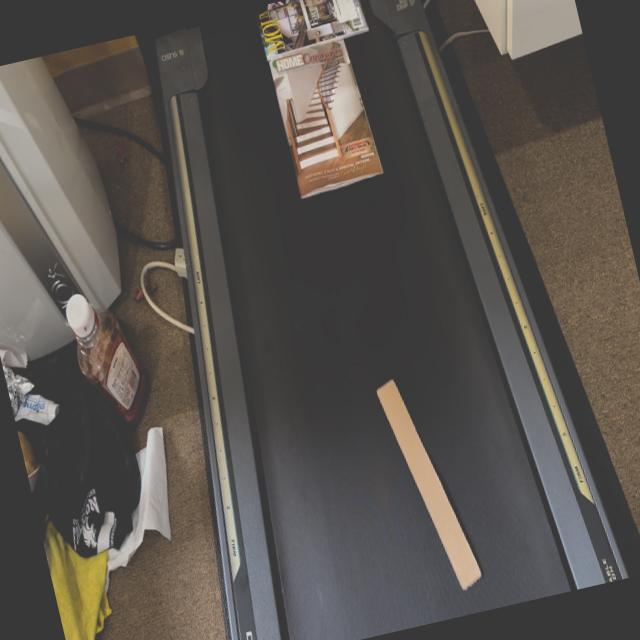Recycle: (373, 368, 484, 598), (268, 38, 384, 196), (254, 0, 369, 55)
